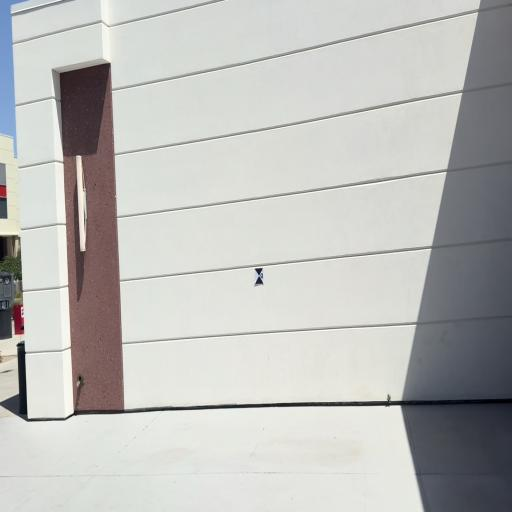target0: (254, 268, 264, 286)
